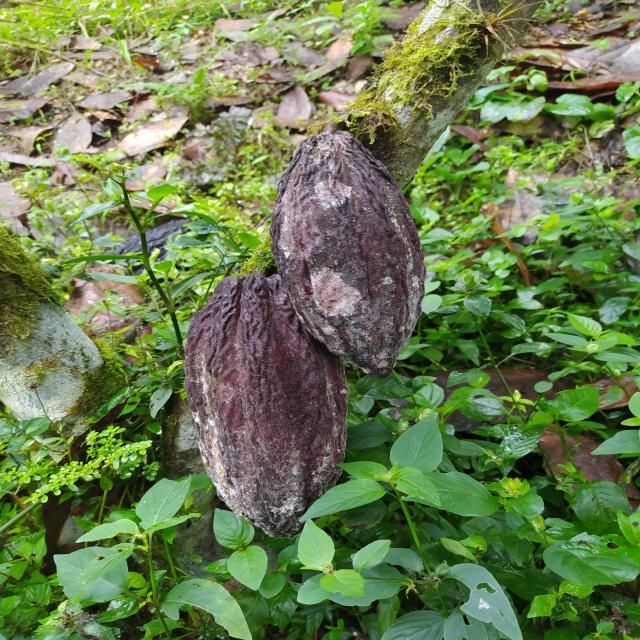Fitoftora: (182, 268, 350, 539), (269, 127, 428, 378)
